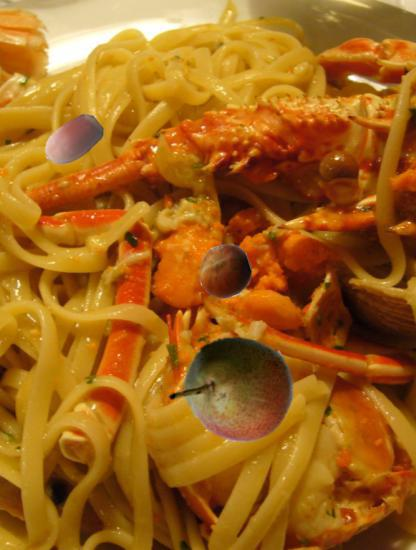Hazelnut: (41, 108, 105, 172)
Nut: (198, 245, 252, 299)
Pear: (174, 330, 296, 452)
